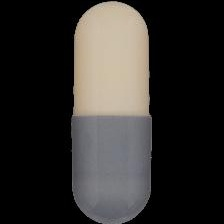54868-6141: (0, 0, 224, 224)
